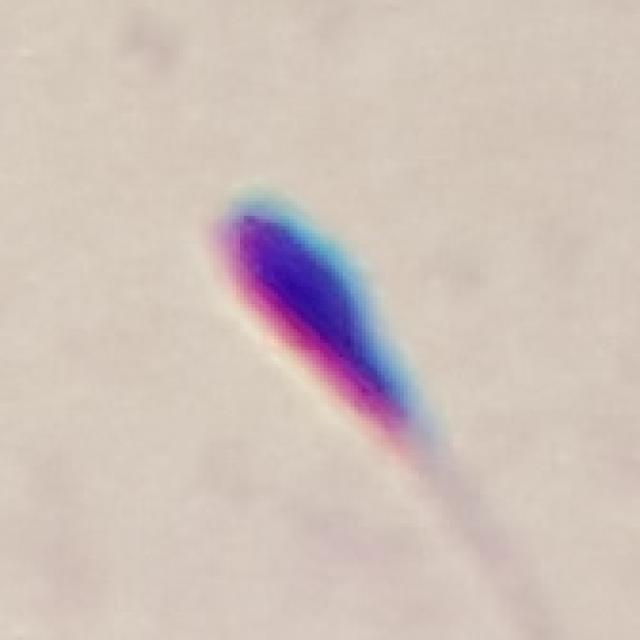abnormal sperm: (216, 195, 472, 518)
